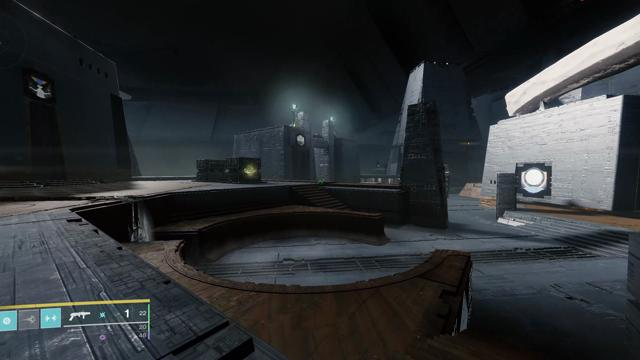commune: (297, 135, 304, 146)
drink: (29, 75, 51, 99)
traveler: (522, 168, 547, 193)
